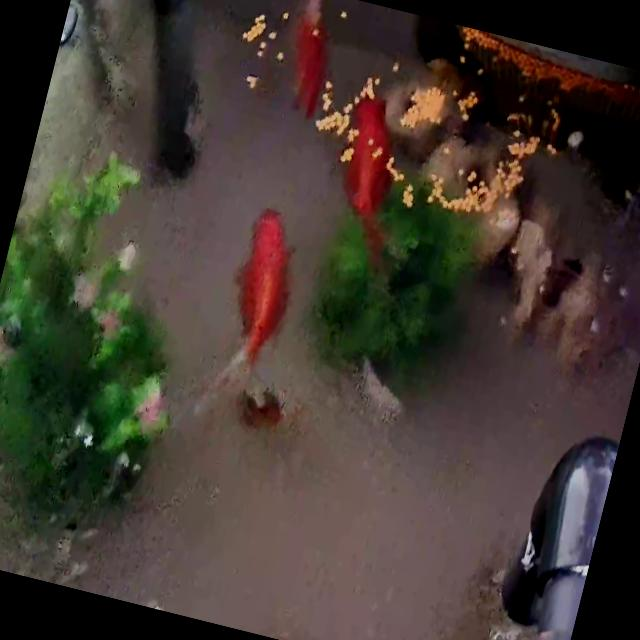fish: (210, 204, 310, 397), (329, 90, 406, 243), (267, 0, 345, 121), (230, 381, 292, 437)
